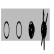correct: (29, 20, 35, 40)
not correct: (41, 9, 48, 52)
